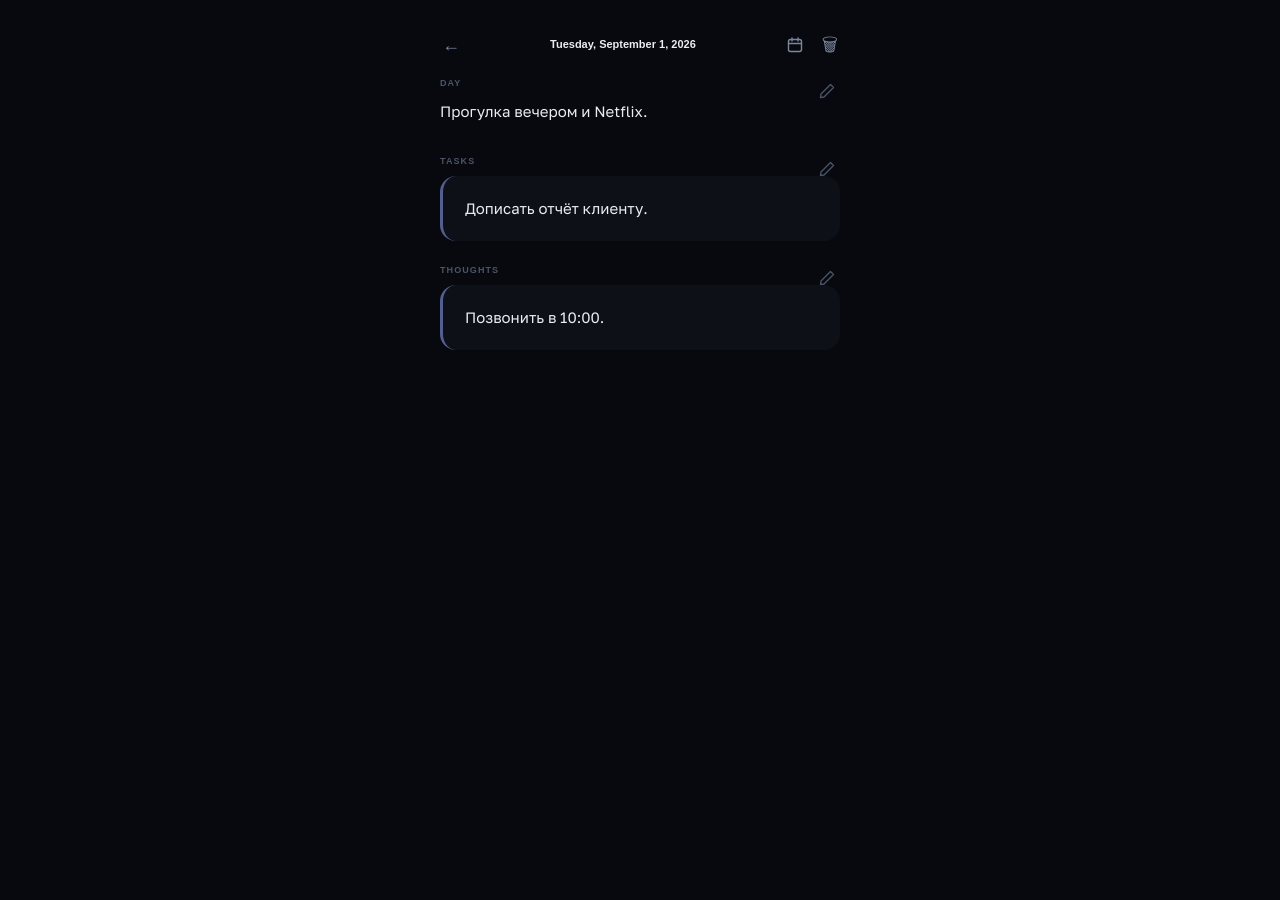
Test: ReadPage › closes the date picker on backdrop click and Escape
The image size is (1280, 900).
Click the button named "Change date": (795, 45) 778,28 -> 812,62
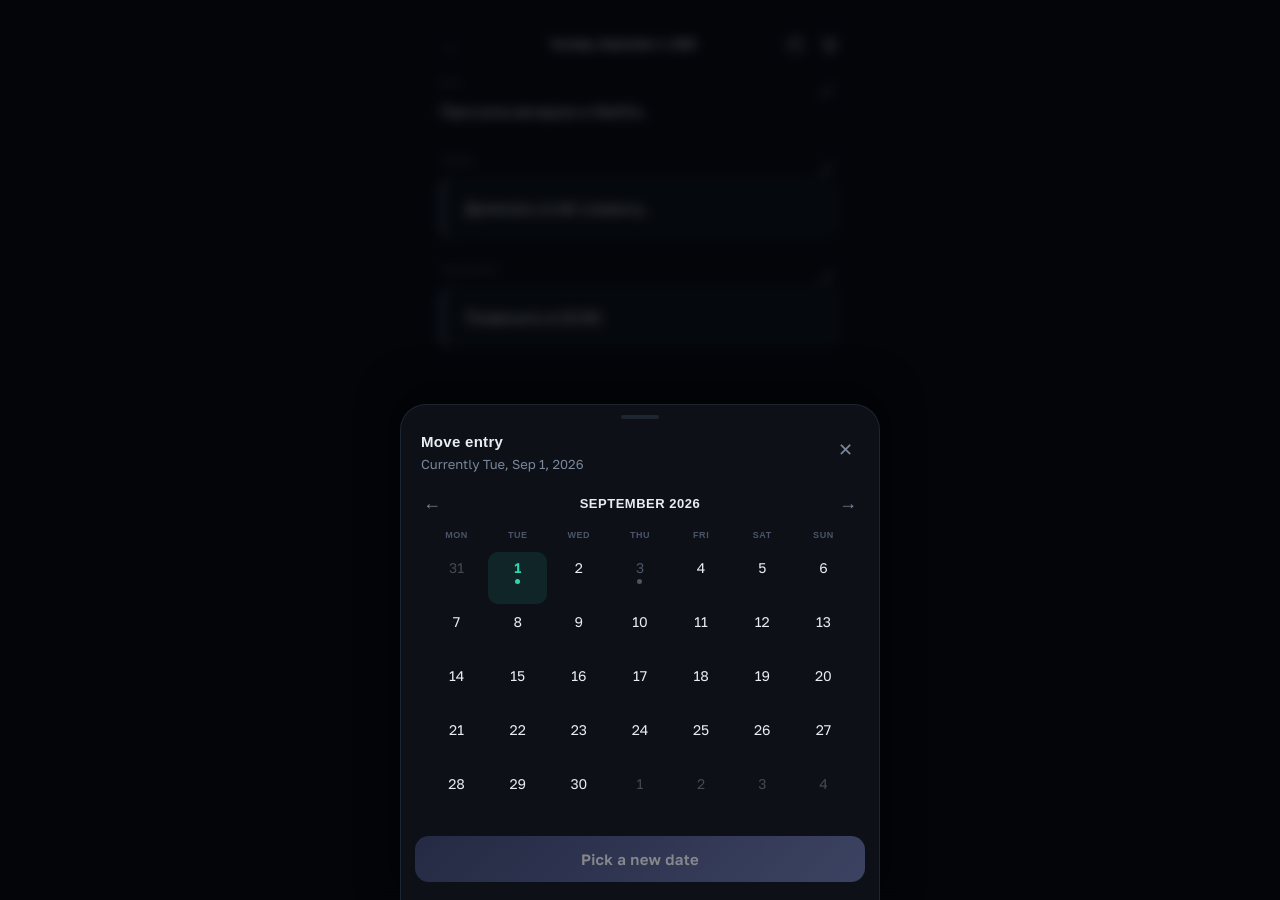
Click the element with class "sheet-overlay": (77, 450) 0,0 -> 1279,899
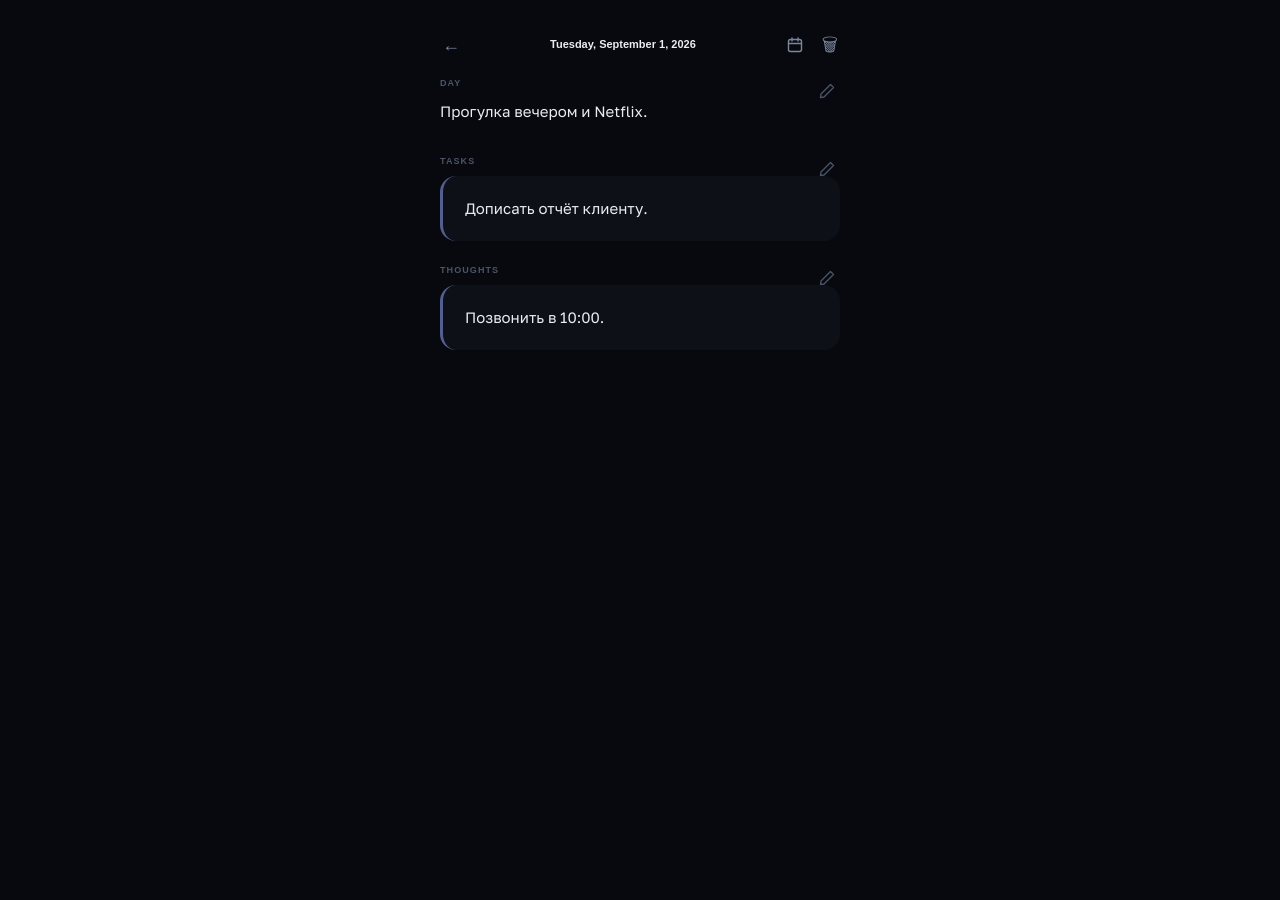
Expected: the dialog is gone
Click the button named "Change date": (795, 45) 778,28 -> 812,62
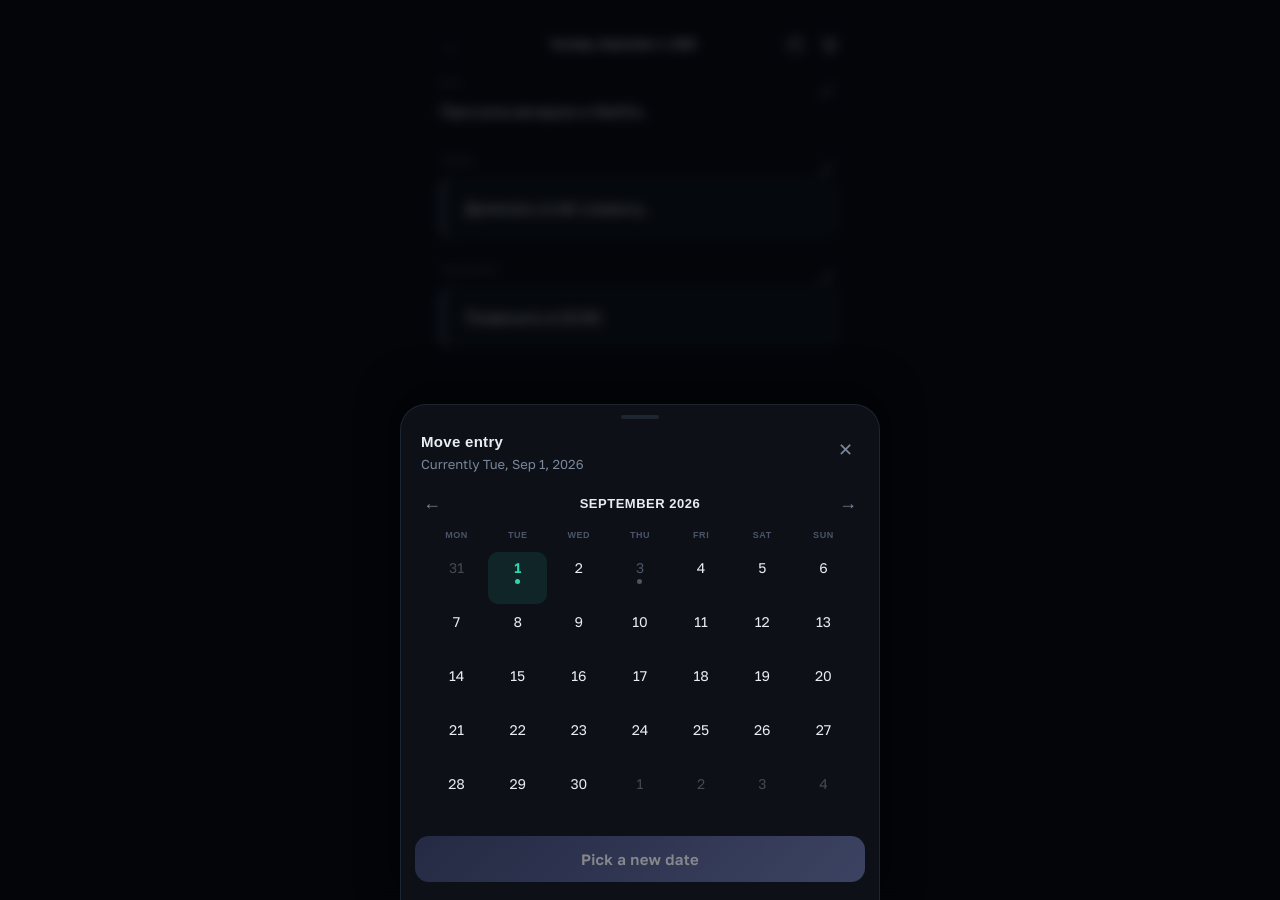
Press Escape
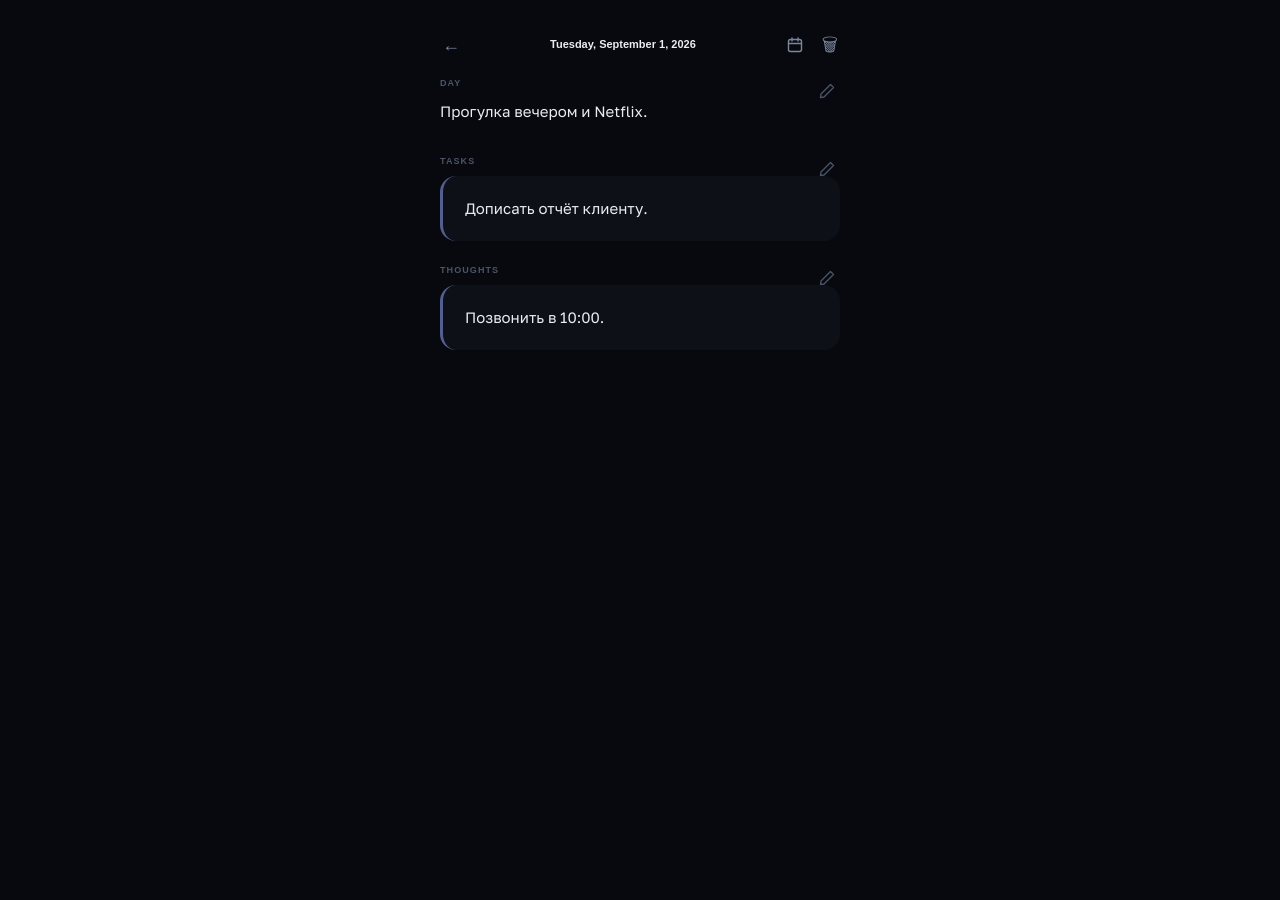
Expected: the dialog is gone
